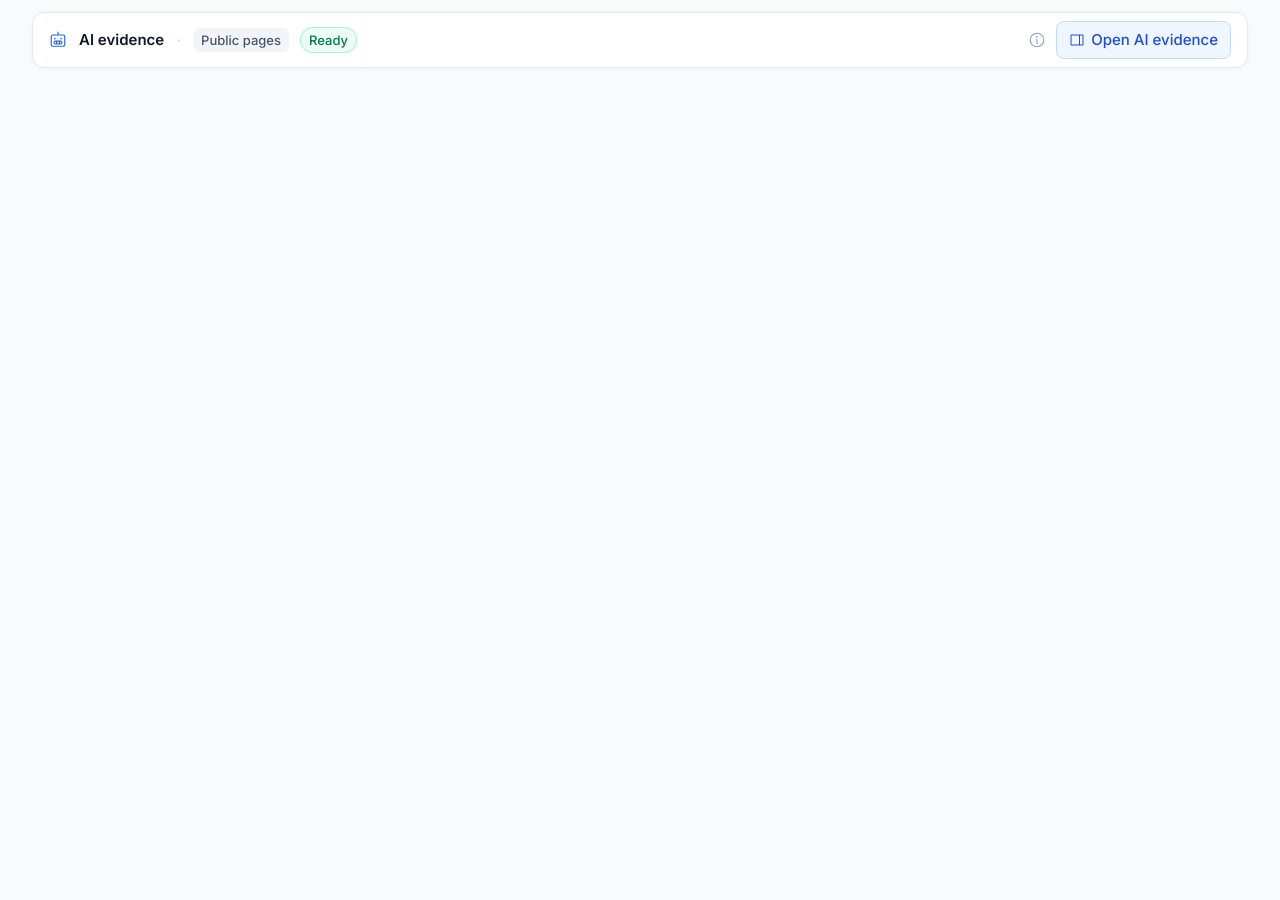
Test: EvidencePanel › does not save when the links are unchanged
Later steps or results of the test are not shown.
Click the button "Open AI evidence".
click(1144, 40)  # box [1056,21,1231,59]
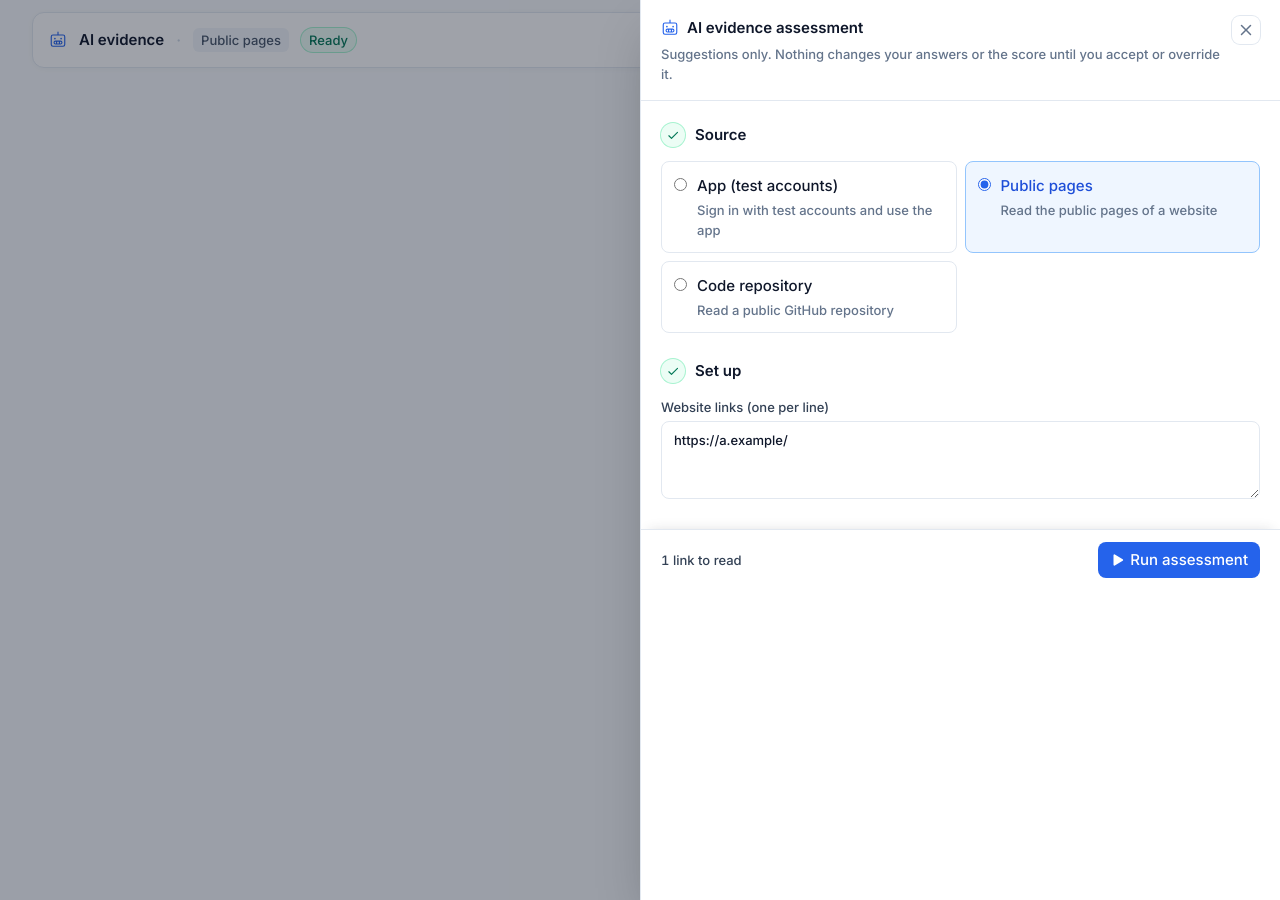
Result: the text box labelled "Website links (one per line)" holds "https://a.example/" at [661,421,1260,499]
